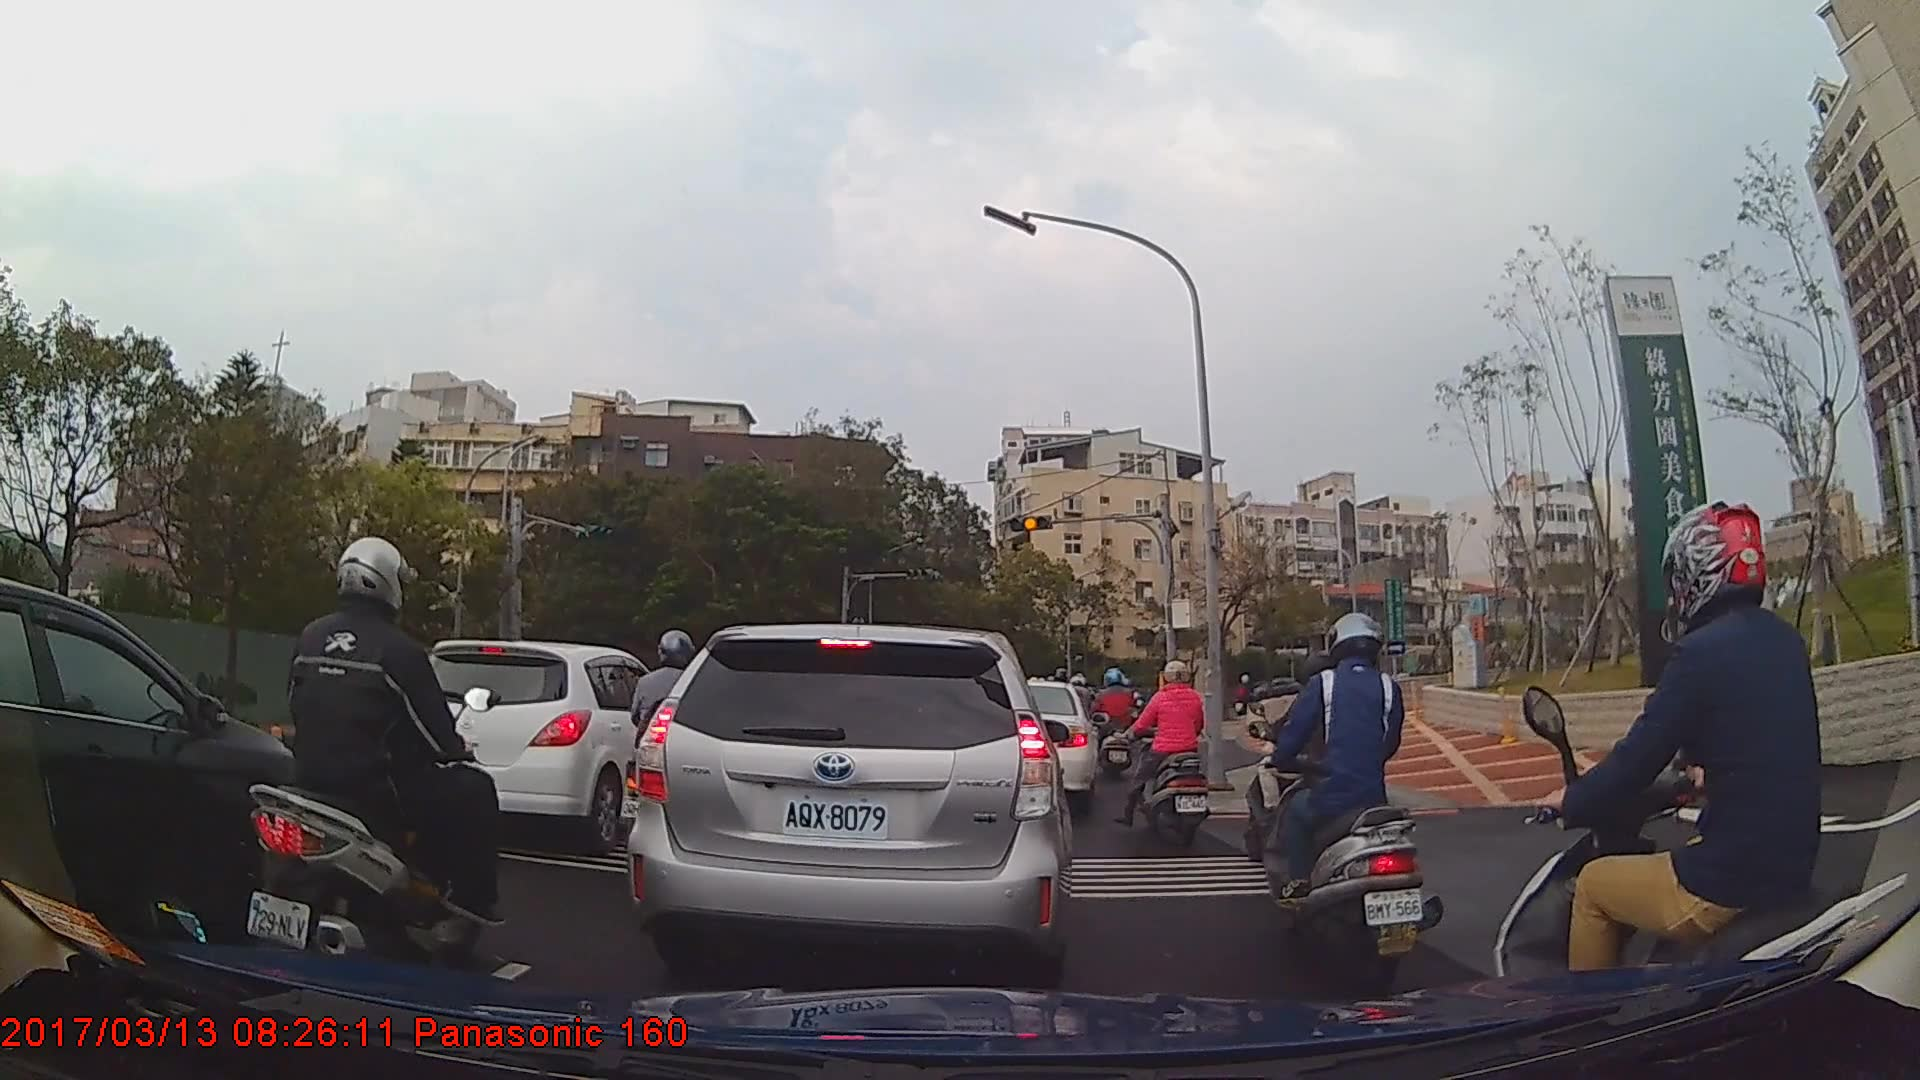rider: (1490, 501, 1912, 1080), (245, 535, 506, 1002), (1250, 611, 1435, 1002), (620, 627, 712, 878), (1135, 663, 1212, 854), (1091, 667, 1141, 777)
vehicle: (625, 623, 1071, 986), (0, 572, 344, 942), (389, 638, 669, 857), (992, 678, 1099, 807)
